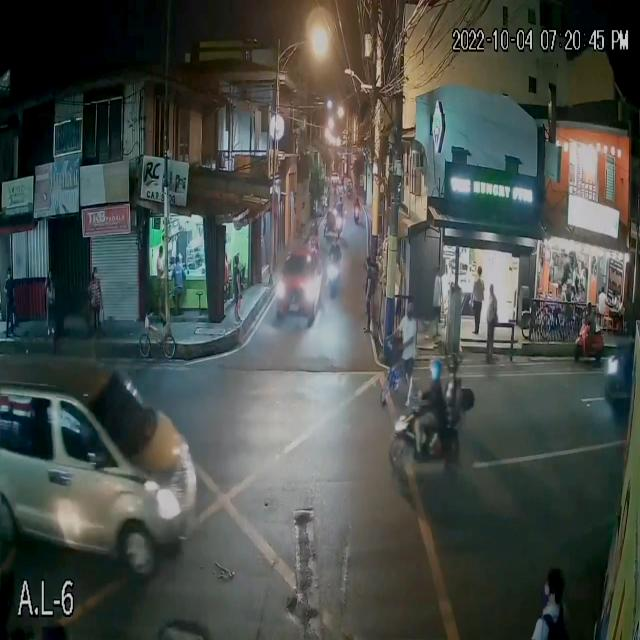Full-Faced: (445, 352, 464, 383), (428, 358, 444, 384)
